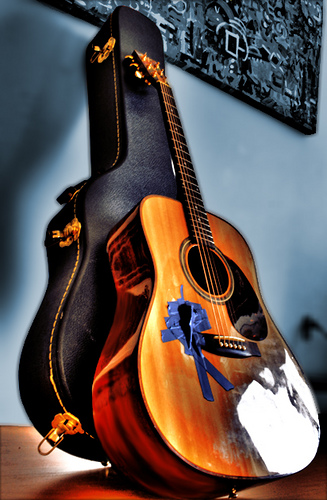guitar: (87, 48, 323, 499)
